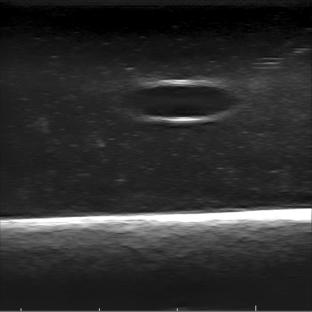vessel: (126, 79, 237, 123)
